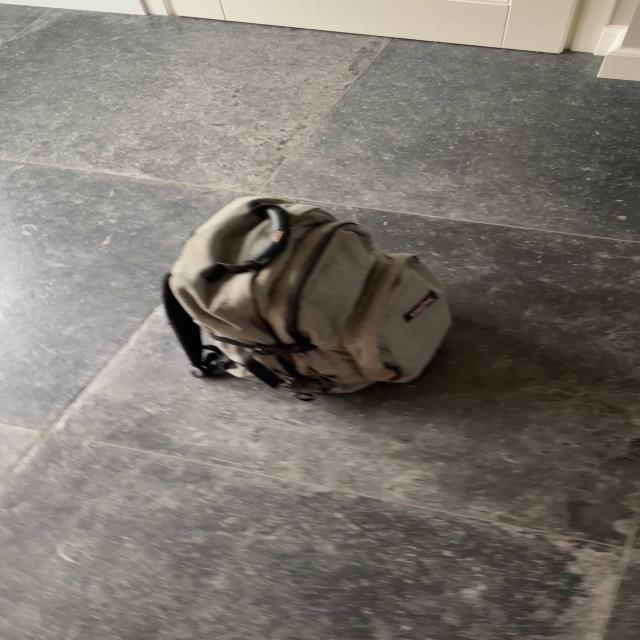backpack: (146, 192, 465, 404)
